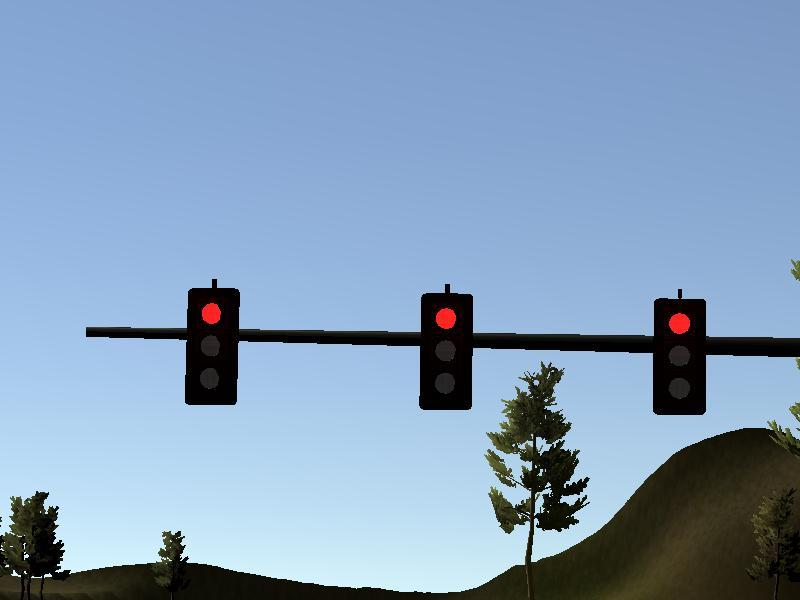Red: (654, 302, 706, 410), (421, 297, 470, 406), (189, 290, 235, 403)
